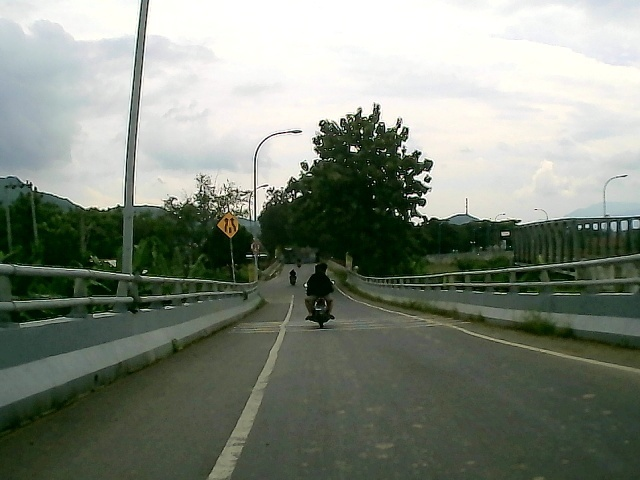Akhir bangunan pemisah satu arah: (214, 208, 243, 240)
